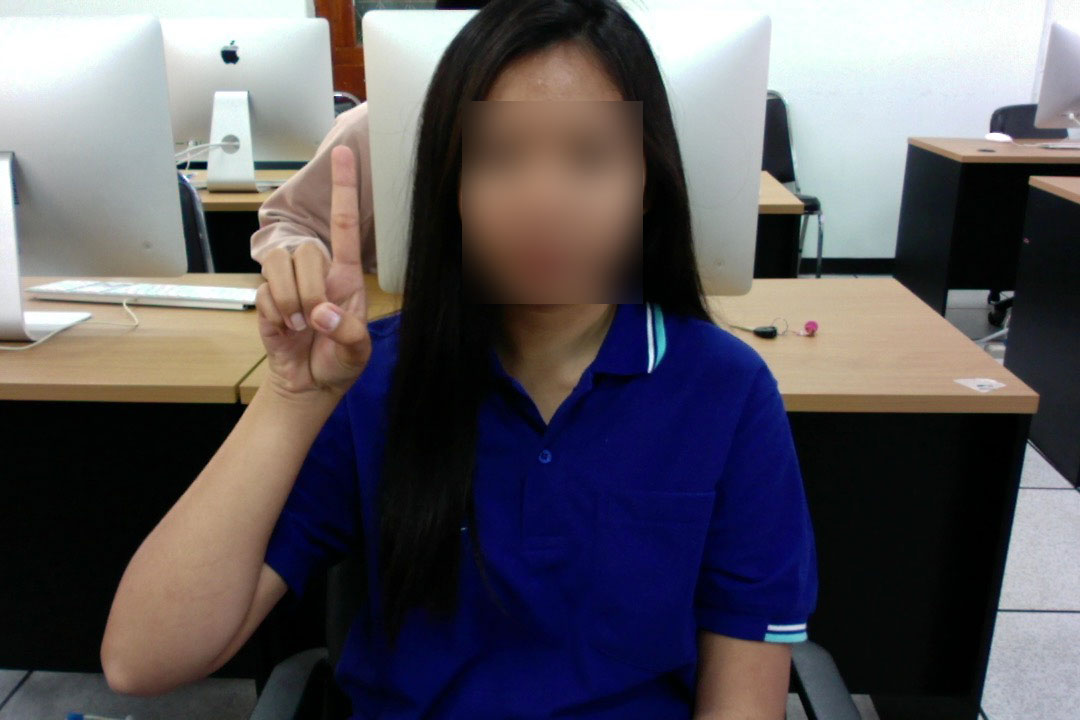dor: (253, 135, 378, 390)
